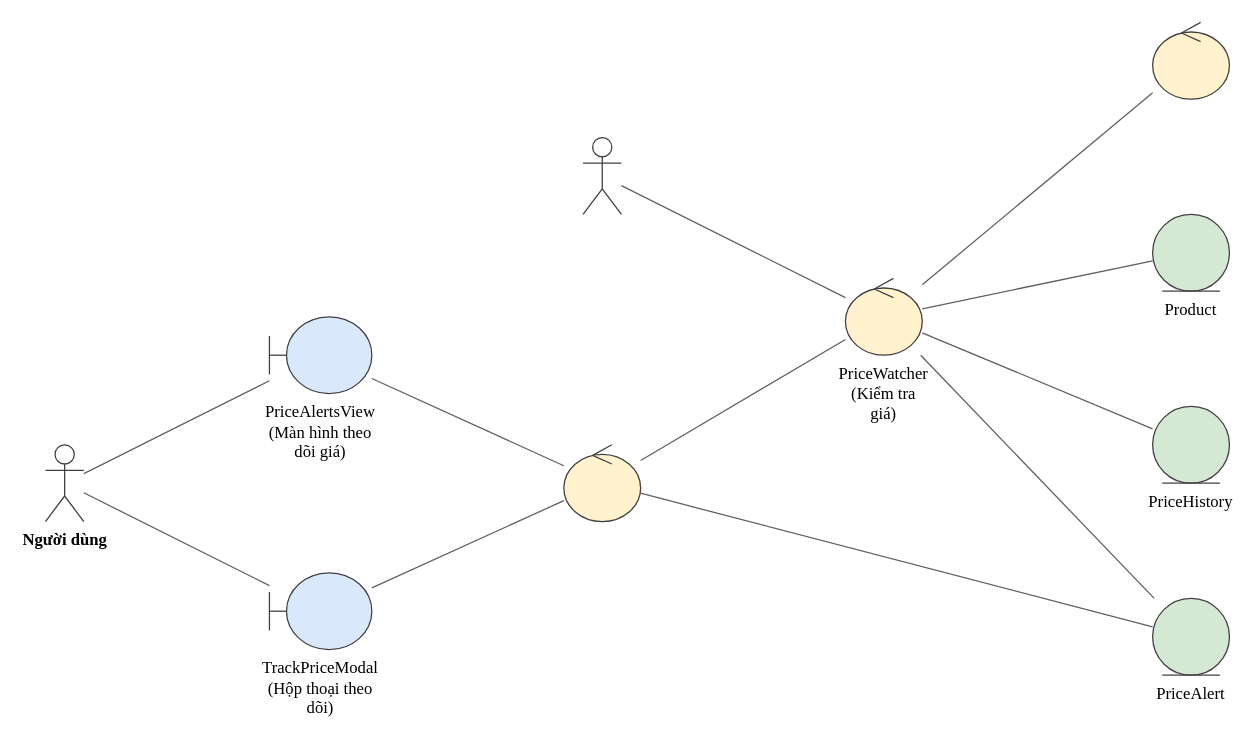
Image size: 1254x741. Some labels were removed from this diagram. The shapes that lost their labels are listed below. From the top down, each one's centre as x and y in pixels, then its label:
the point at 1190,60: Guardrails (Kiểm định giá)
the point at 601,175: Bộ lập lịch
the point at 602,483: AlertController (API /alerts)
